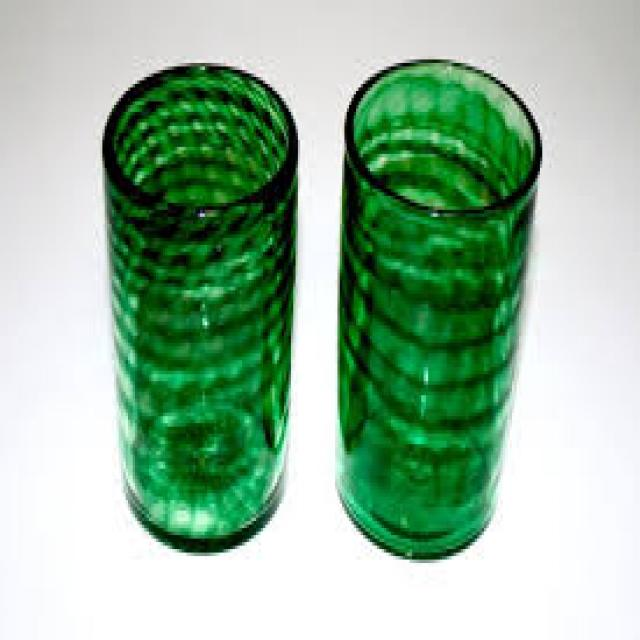Glass: (332, 54, 542, 565), (102, 59, 300, 556)
